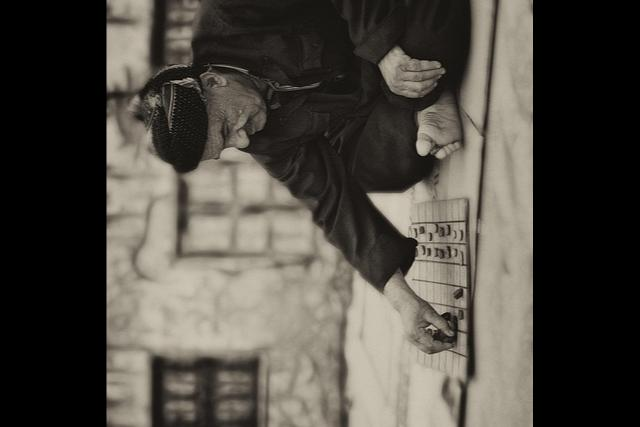Non_Gorille: (106, 0, 529, 328)
